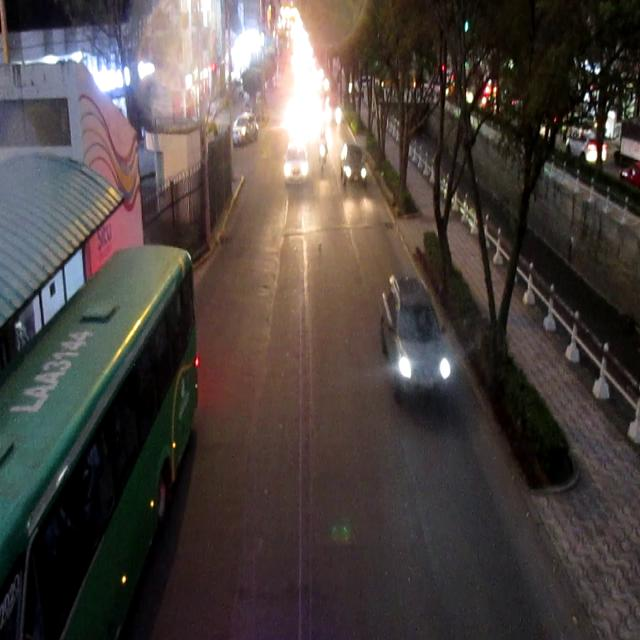BUS: (0, 254, 188, 638)
CMT: (338, 146, 367, 184)
MOTORCYCLE: (318, 127, 330, 173)
SUV: (381, 282, 453, 398), (230, 116, 262, 145)
